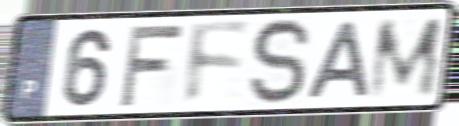6: (61, 25, 113, 110)
A: (304, 20, 373, 102)
F: (117, 22, 187, 110), (184, 20, 253, 109)
M: (365, 14, 446, 102)
S: (247, 15, 314, 109)
